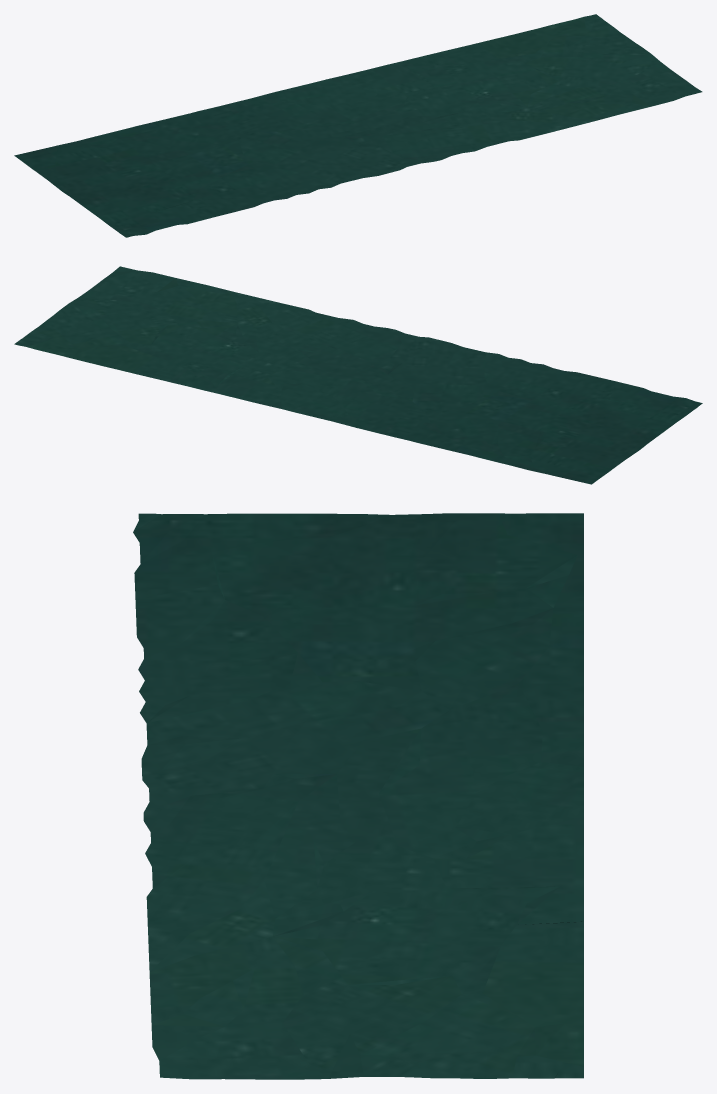
3 views of the same model, one above another, from view 1: azimuth 30°, elevation 25°; view 2: azimuth 150°, elevation 25°; view 3: azimuth 270°, elevation 25° (orthographic). The views are drawn at different scales.
Size of the model in its own units: 209 by 0.6514 by 70.65.
Materials: 1 (1 with a texture image).
